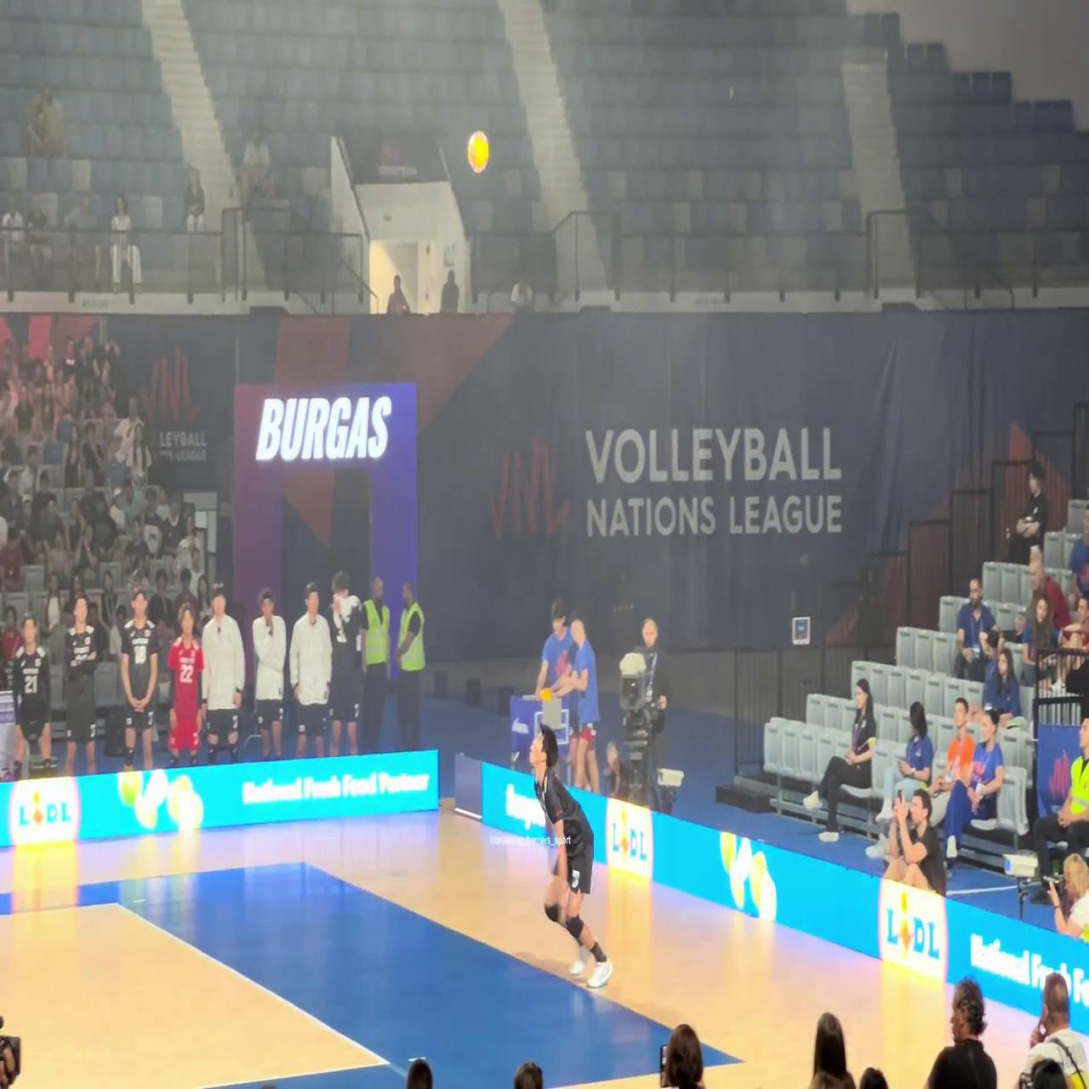ball: (466, 131, 489, 172)
